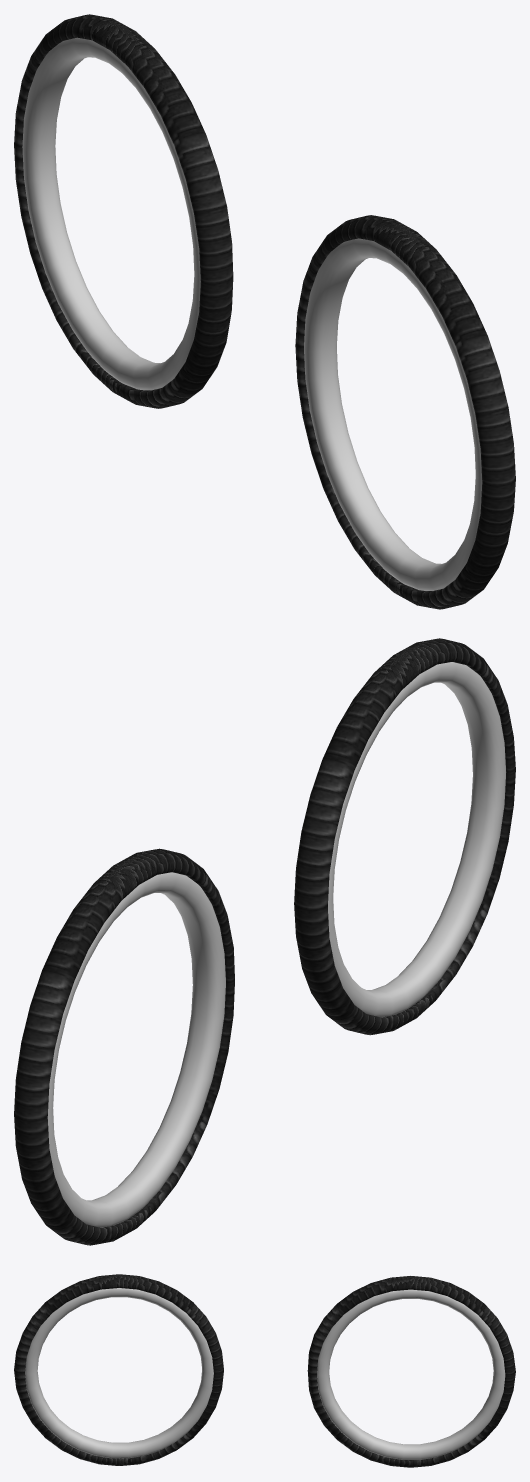
File: llantasbici.obj
3 renders of one model, top to bottom at view 1: azimuth 30°, elevation 25°; view 2: azimuth 150°, elevation 25°; view 3: azimuth 270°, elevation 25°, orthographic. The views are drawn at different scales.
Parts seen in each view (by area): view 1: llantas:llantas_initialShadingGroup_008, textureEditorIsolateSelectSet llantas:llantas_initialShadingGrou; view 2: llantas:llantas_initialShadingGroup_008, textureEditorIsolateSelectSet llantas:llantas_initialShadingGrou; view 3: llantas:llantas_initialShadingGroup_008, textureEditorIsolateSelectSet llantas:llantas_initialShadingGrou.
Boxes of the visible parts, <box> form: llantas:llantas_initialShadingGroup_008: <box>14,14,515,609</box>; textureEditorIsolateSelectSet llantas:llantas_initialShadingGrou: <box>304,238,482,590</box>; llantas:llantas_initialShadingGroup_008: <box>14,638,515,1245</box>; textureEditorIsolateSelectSet llantas:llantas_initialShadingGrou: <box>328,662,506,1017</box>; llantas:llantas_initialShadingGroup_008: <box>14,1274,515,1467</box>; textureEditorIsolateSelectSet llantas:llantas_initialShadingGrou: <box>25,1288,213,1458</box>.
Bounding box in the file's own units: 0.3286 × 3.55 × 8.43.
